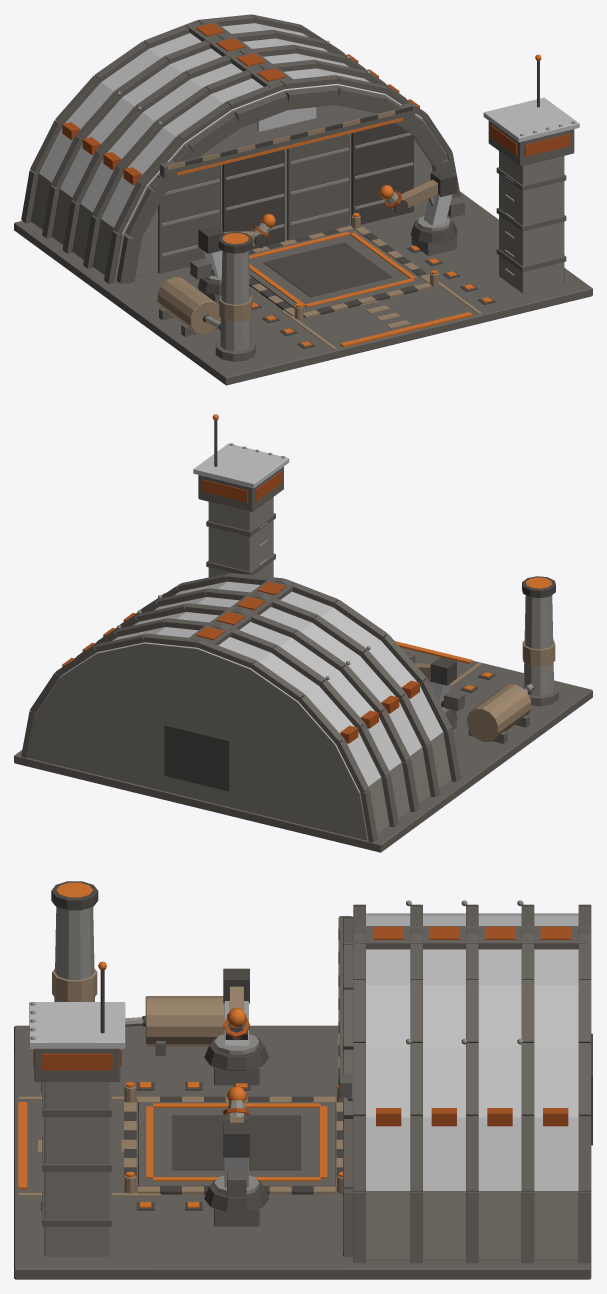
Rendered from crucible_aircraft_plant.glb.
The picture shows the model from 3 angles, top to bottom: view 1: azimuth 30°, elevation 25°; view 2: azimuth 150°, elevation 25°; view 3: azimuth 270°, elevation 25°; orthographic projection. The views are drawn at different scales.
Visible parts, largest first — view 1: Body; view 2: Body; view 3: Body.
Boxes of the visible parts, x1,y1,x2,y2 form: Body: (14,14,592,385); Body: (14,414,592,852); Body: (14,881,592,1279).
Size of the model in its own units: 22.8 by 13.23 by 22.87.
